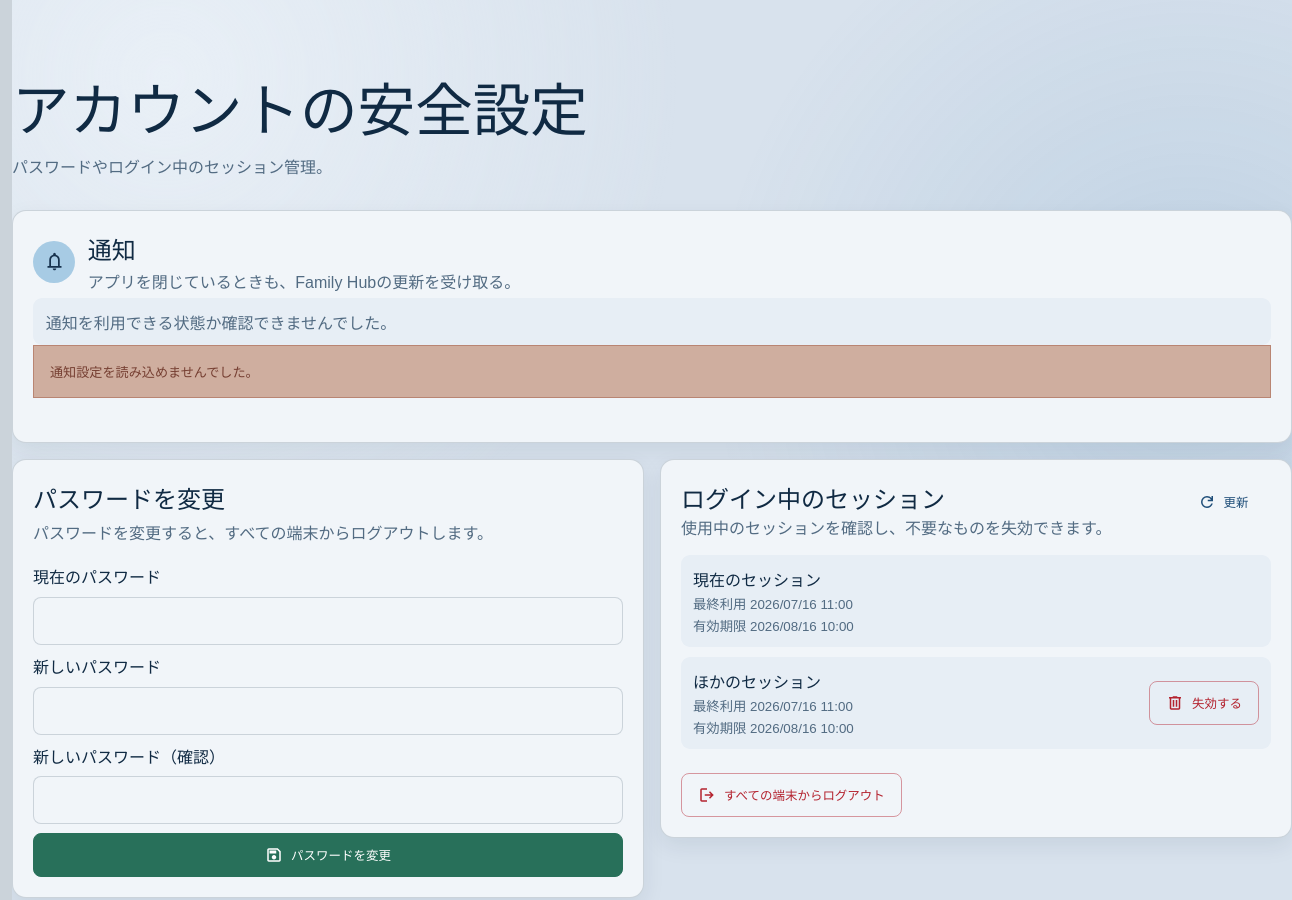
AccountPage › checks password confirmation before submitting
The width and height of the screenshot is (1292, 900).
Expected: the text "現在のセッション" is shown, [693,572,821,589]
In the password field labelled "現在のパスワード": (328, 621) [33,597,623,645], type "current-password"
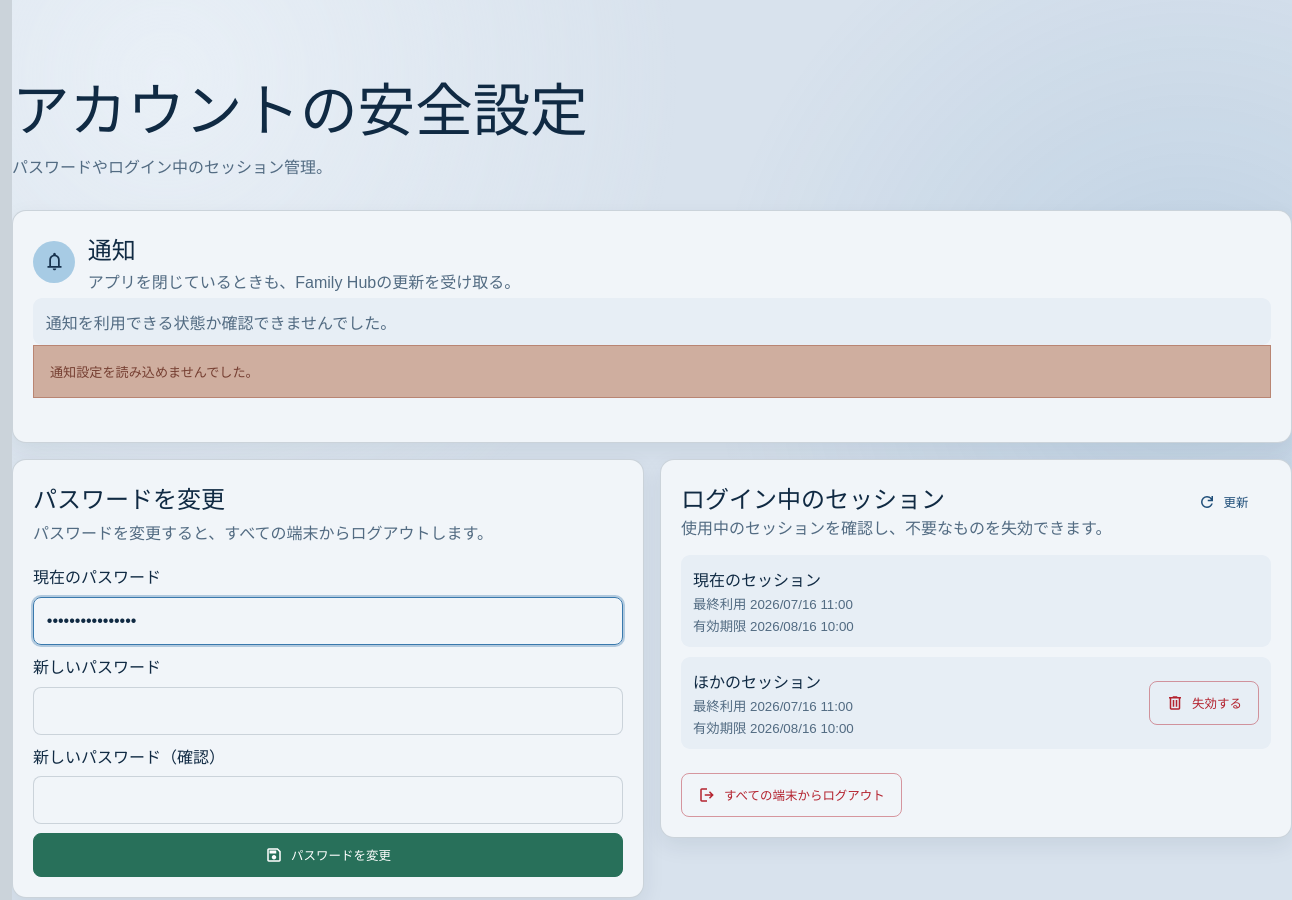
In the password field labelled "新しいパスワード": (328, 711) [33,687,623,735], type "new-password"
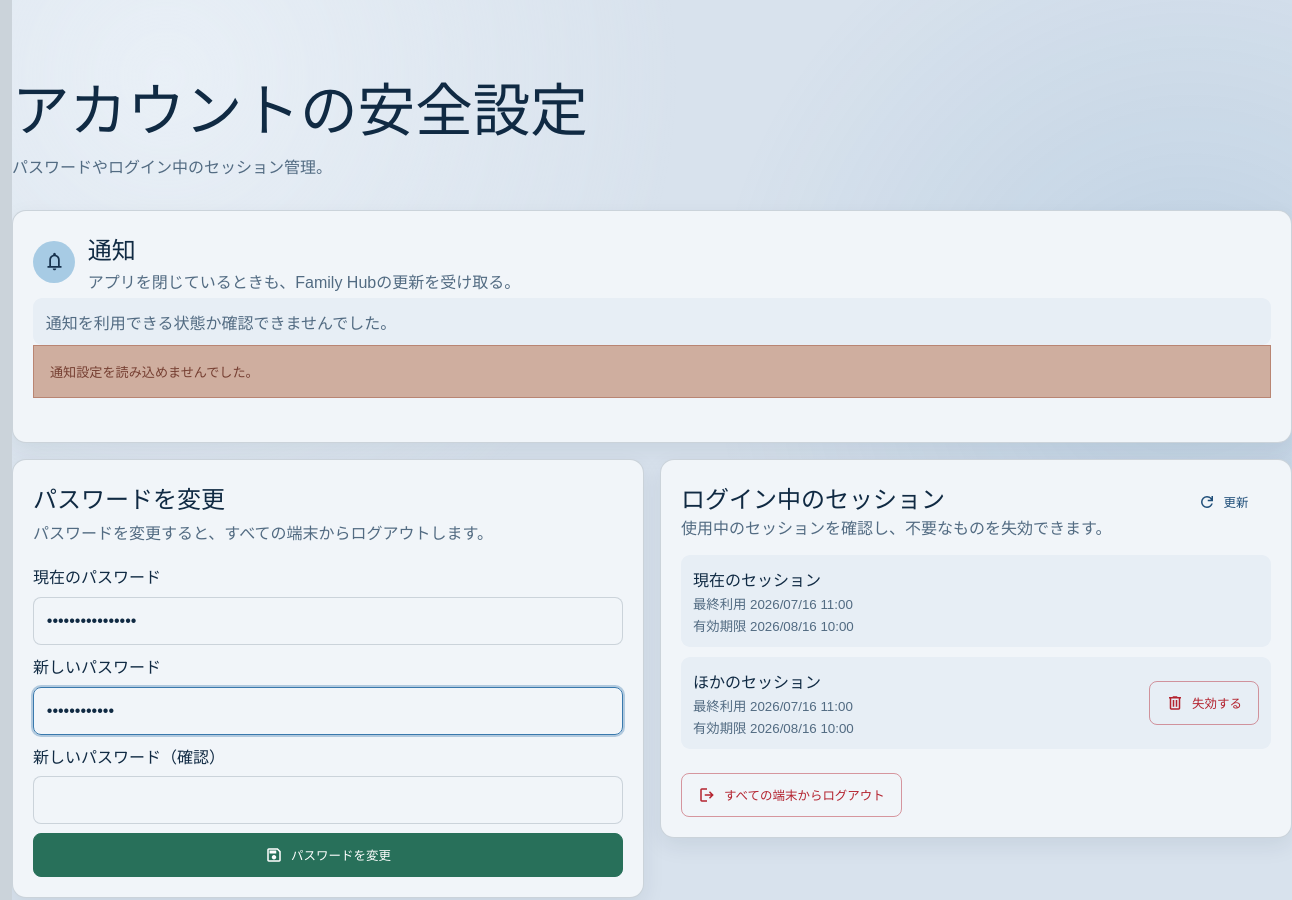
In the password field labelled "新しいパスワード（確認）": (328, 800) [33,776,623,824], type "different-password"
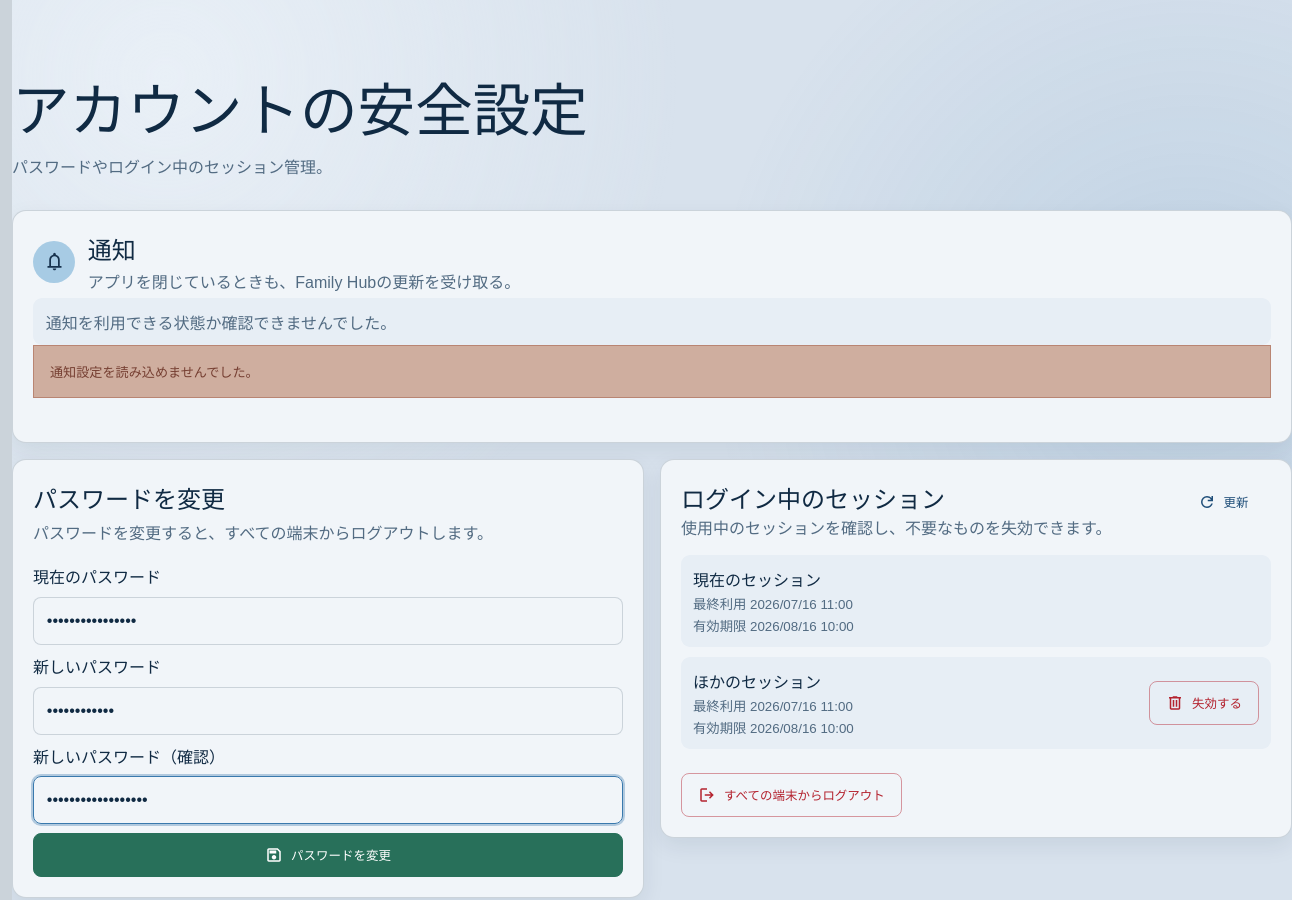
Click the button "パスワードを変更": click(328, 855) [33,833,623,877]
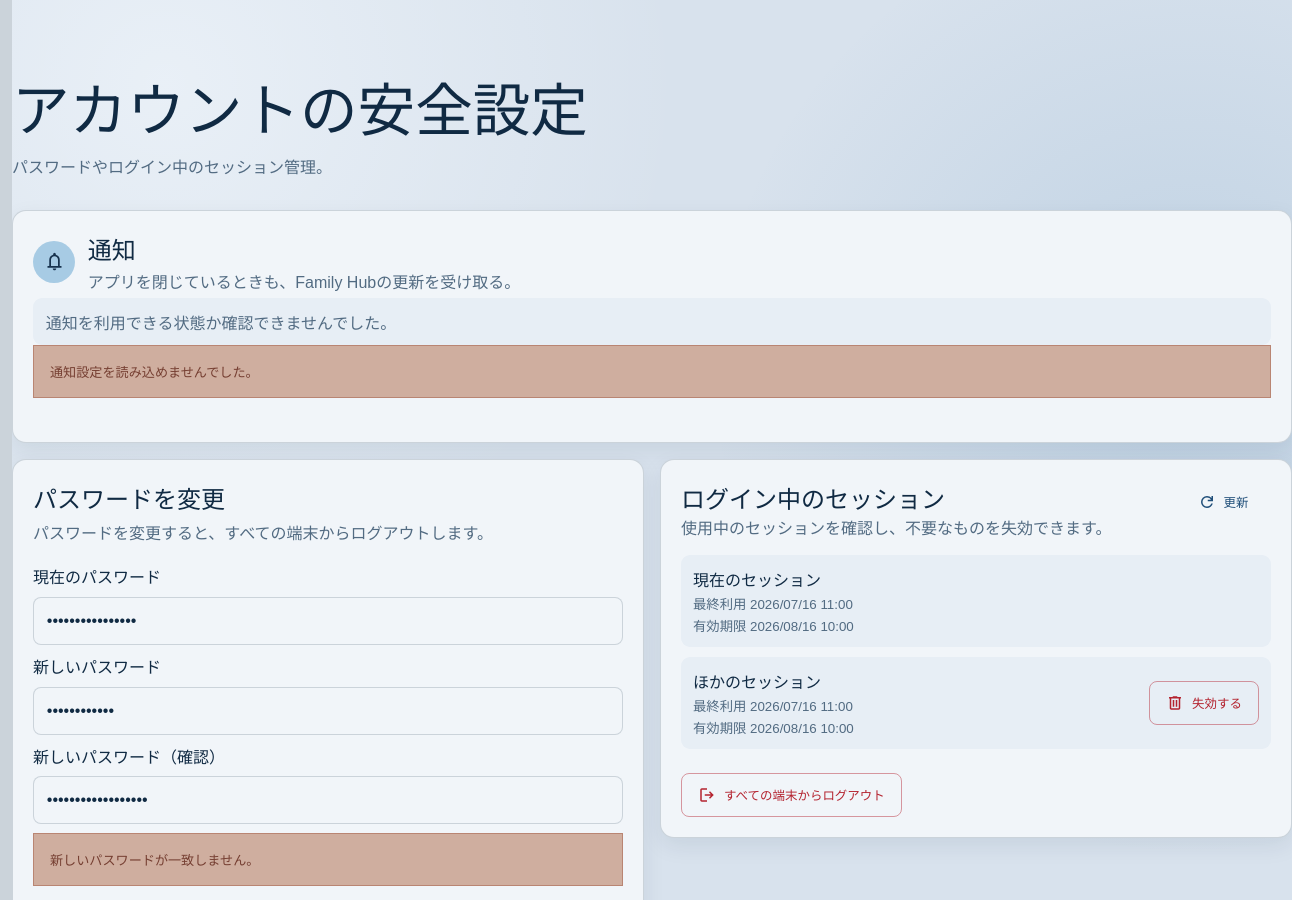
Result: the text "新しいパスワードが一致しません。" is shown at [33,833,623,886]
